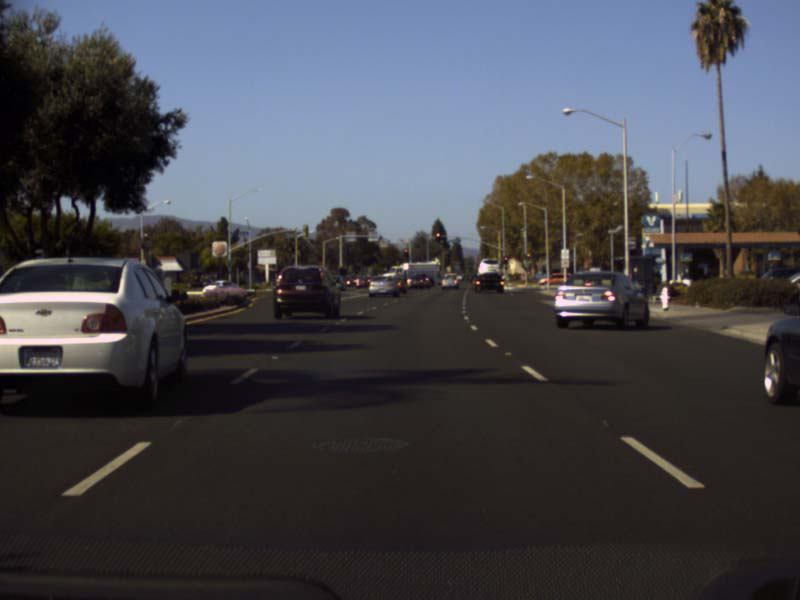Red: (403, 248, 407, 256), (504, 257, 508, 264), (435, 232, 440, 237), (526, 252, 531, 257)
